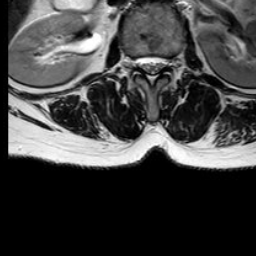CCS_normal: (146, 44, 157, 94)
LFS_stenosis: (167, 44, 178, 78)
LLS_normal: (157, 46, 168, 79)
RFS_normal: (125, 44, 135, 80)
RLS_normal: (135, 46, 146, 79)
